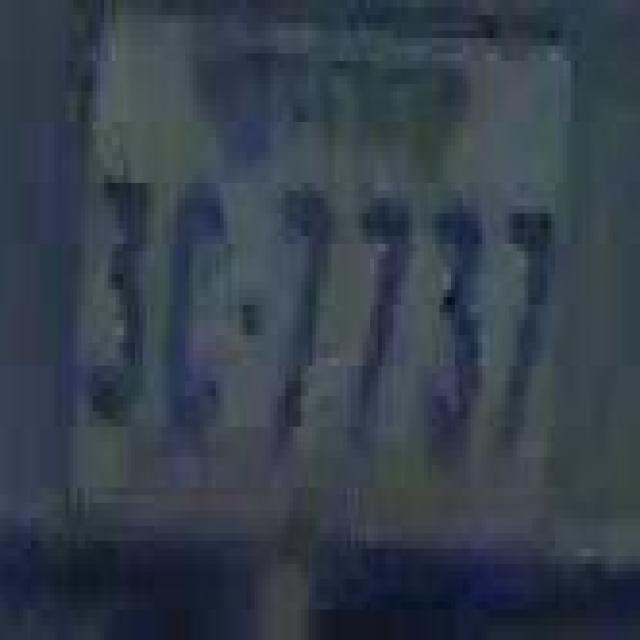Phnom_Penh: (200, 23, 452, 188)
